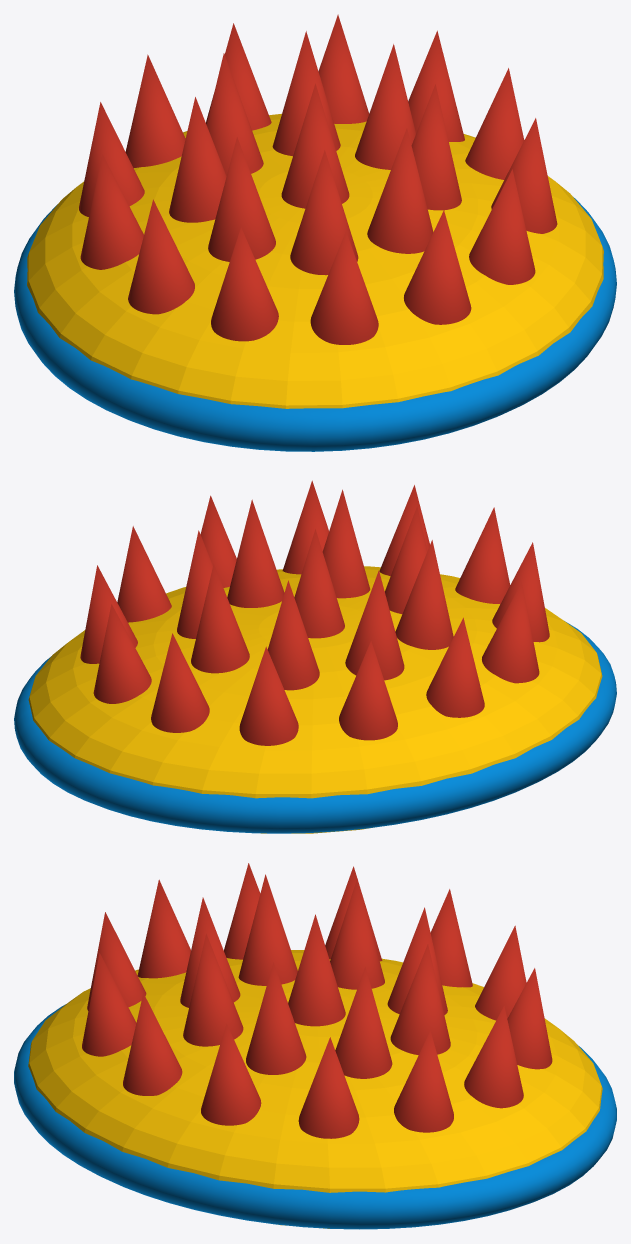
File: spiked-scalp-dome.glb
The picture shows the model from 3 angles, top to bottom: view 1: azimuth 30°, elevation 25°; view 2: azimuth 150°, elevation 25°; view 3: azimuth 270°, elevation 25°; orthographic projection. The views are drawn at different scales.
Parts seen in each view (by area): view 1: spiked-scalp-dome-part-001, spiked-scalp-dome-part-002, spiked-scalp-dome-part-009, spiked-scalp-dome-part-019, spiked-scalp-dome-part-018, spiked-scalp-dome-part-020, spiked-scalp-dome-part-017, spiked-scalp-dome-part-021, spiked-scalp-dome-part-007, spiked-scalp-dome-part-006, spiked-scalp-dome-part-016, spiked-scalp-dome-part-008 (+12 smaller); view 2: spiked-scalp-dome-part-001, spiked-scalp-dome-part-002, spiked-scalp-dome-part-004, spiked-scalp-dome-part-007, spiked-scalp-dome-part-010, spiked-scalp-dome-part-014, spiked-scalp-dome-part-015, spiked-scalp-dome-part-013, spiked-scalp-dome-part-016, spiked-scalp-dome-part-017, spiked-scalp-dome-part-012, spiked-scalp-dome-part-005 (+12 smaller); view 3: spiked-scalp-dome-part-001, spiked-scalp-dome-part-002, spiked-scalp-dome-part-010, spiked-scalp-dome-part-011, spiked-scalp-dome-part-009, spiked-scalp-dome-part-003, spiked-scalp-dome-part-023, spiked-scalp-dome-part-024, spiked-scalp-dome-part-022, spiked-scalp-dome-part-004, spiked-scalp-dome-part-021, spiked-scalp-dome-part-012 (+12 smaller).
Boxes of the visible parts, x1,y1,x2,y2 form: spiked-scalp-dome-part-001: (27,113,603,408); spiked-scalp-dome-part-002: (14,197,616,451); spiked-scalp-dome-part-009: (367,128,433,253); spiked-scalp-dome-part-019: (310,231,378,344); spiked-scalp-dome-part-018: (211,227,278,341); spiked-scalp-dome-part-020: (404,210,471,324); spiked-scalp-dome-part-017: (128,199,194,314); spiked-scalp-dome-part-021: (469,169,535,284); spiked-scalp-dome-part-007: (208,137,275,261); spiked-scalp-dome-part-006: (169,97,226,222); spiked-scalp-dome-part-016: (80,154,143,269); spiked-scalp-dome-part-008: (290,150,358,275); spiked-scalp-dome-part-001: (28,566,602,833); spiked-scalp-dome-part-002: (14,621,616,833); spiked-scalp-dome-part-004: (191,564,249,673); spiked-scalp-dome-part-007: (395,540,453,649); spiked-scalp-dome-part-010: (227,499,284,607); spiked-scalp-dome-part-014: (239,646,298,745); spiked-scalp-dome-part-015: (339,641,397,740); spiked-scalp-dome-part-013: (151,633,209,732); spiked-scalp-dome-part-016: (426,617,484,717); spiked-scalp-dome-part-017: (482,582,539,683); spiked-scalp-dome-part-012: (93,604,151,703); spiked-scalp-dome-part-005: (267,580,319,690); spiked-scalp-dome-part-001: (28,950,602,1228); spiked-scalp-dome-part-002: (14,1004,616,1229); spiked-scalp-dome-part-010: (246,962,306,1074); spiked-scalp-dome-part-011: (335,967,392,1078); spiked-scalp-dome-part-009: (183,933,243,1046); spiked-scalp-dome-part-003: (288,914,345,1026); spiked-scalp-dome-part-023: (298,1037,359,1138); spiked-scalp-dome-part-024: (394,1030,453,1132); spiked-scalp-dome-part-022: (201,1023,261,1125); spiked-scalp-dome-part-004: (390,944,450,1054); spiked-scalp-dome-part-021: (123,993,182,1095); spiked-scalp-dome-part-012: (464,1006,523,1108).
Bounding box in the file's own units: 2.84 × 1.38 × 3.
